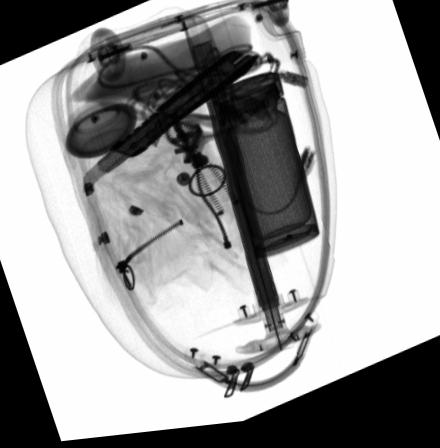Knife: (82, 54, 259, 191)
